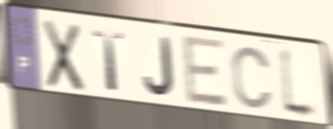C: (230, 44, 275, 112)
E: (180, 32, 231, 109)
J: (142, 35, 177, 100)
L: (277, 43, 323, 125)
T: (90, 27, 128, 94)
X: (41, 16, 86, 95)
